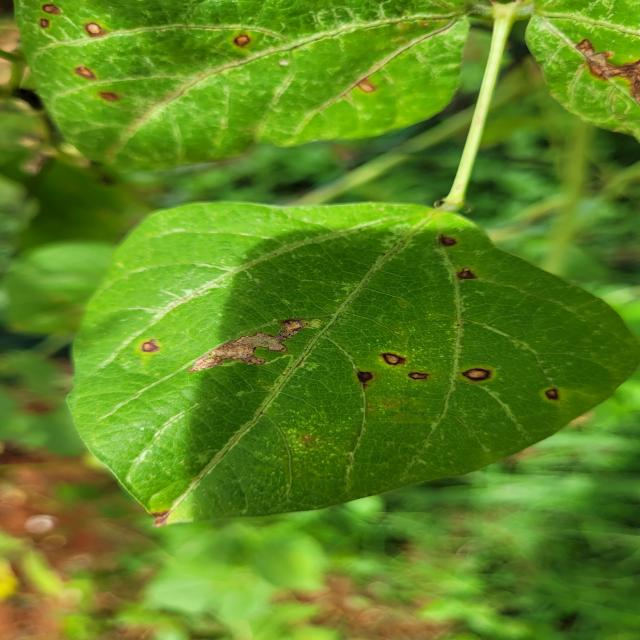Dolicos bean_cercospora leaf spot: (77, 204, 639, 524), (31, 0, 494, 165)
